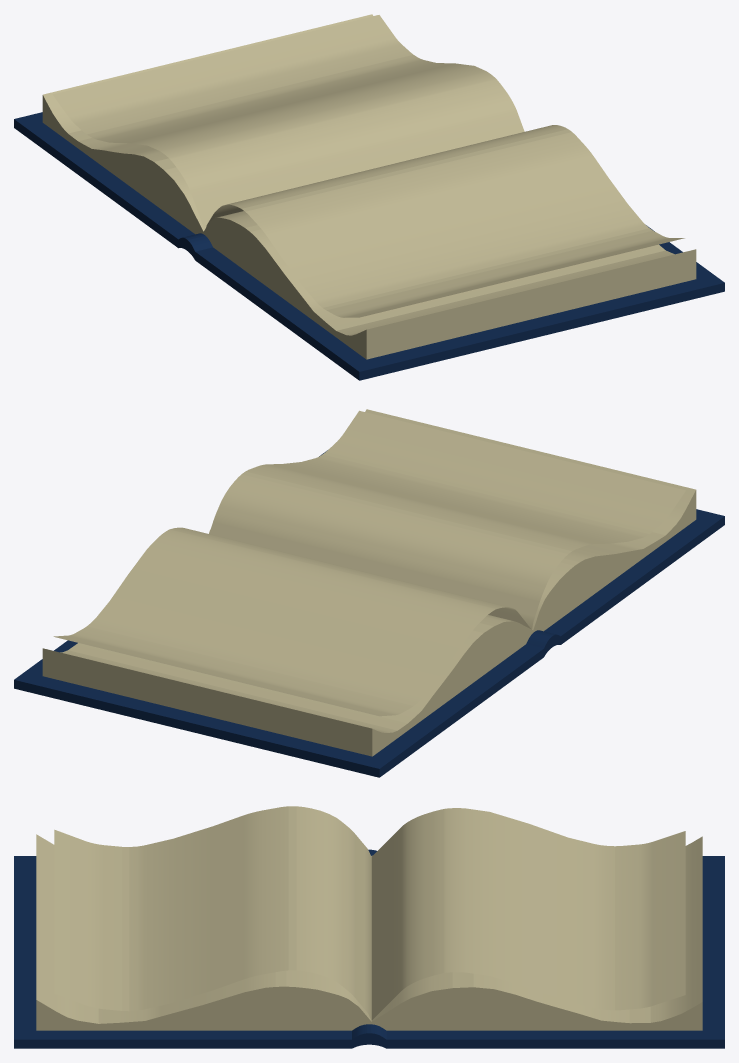
Rendered from Open book.fbx.
The picture shows the model from 3 angles, top to bottom: view 1: azimuth 30°, elevation 25°; view 2: azimuth 150°, elevation 25°; view 3: azimuth 270°, elevation 25°; orthographic projection. The views are drawn at different scales.
Parts seen in each view (by area): view 1: Book, Cover; view 2: Book, Cover; view 3: Book, Cover.
Part boxes in pixels (x1,y1,x2,y2): Book: [42, 14, 696, 359]; Cover: [14, 112, 724, 380]; Book: [42, 409, 696, 756]; Cover: [14, 450, 724, 777]; Book: [36, 806, 702, 1030]; Cover: [14, 849, 724, 1048].
Bounding box in the file's own units: 248 × 43.24 × 406.
